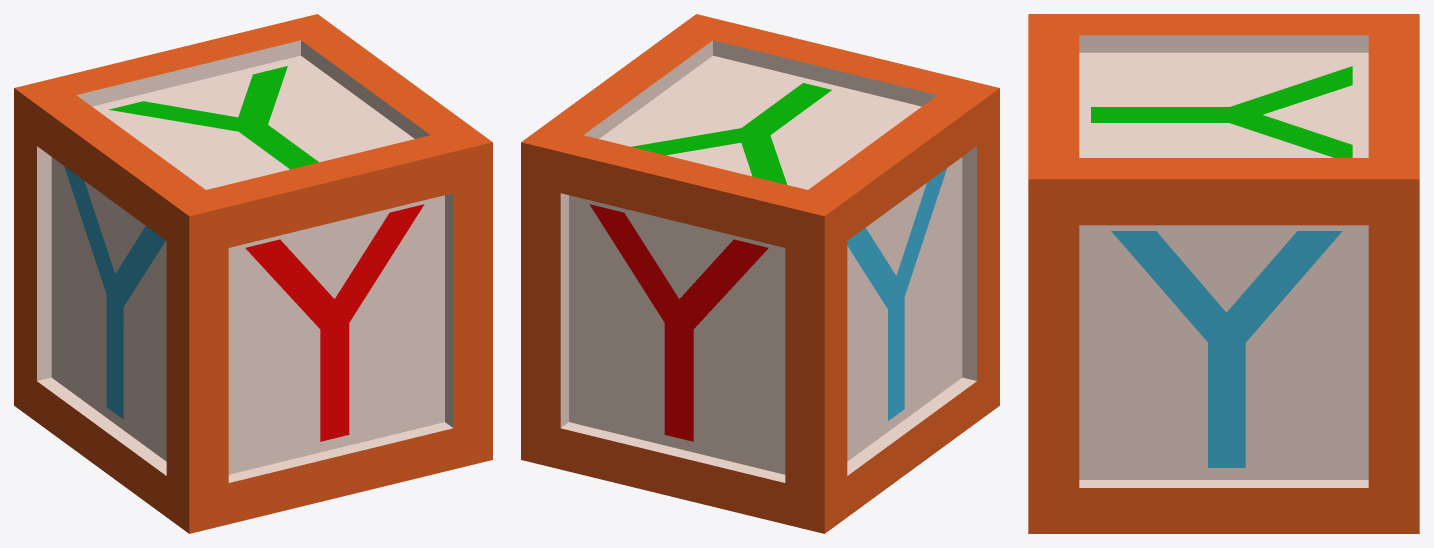
File: Prop_KidsCube_Y.fbx
The picture shows the model from 3 angles, left to right: view 1: azimuth 30°, elevation 25°; view 2: azimuth 150°, elevation 25°; view 3: azimuth 270°, elevation 25°; orthographic projection. The views are drawn at different scales.
Parts seen in each view (by area): view 1: Prop_KidsCube_Y; view 2: Prop_KidsCube_Y; view 3: Prop_KidsCube_Y.
Boxes of the visible parts, x1,y1,x2,y2 form: Prop_KidsCube_Y: (14,14,492,533); Prop_KidsCube_Y: (521,14,999,533); Prop_KidsCube_Y: (1028,14,1419,533).
Bounding box in the file's own units: 20.93 × 20.93 × 20.93.
